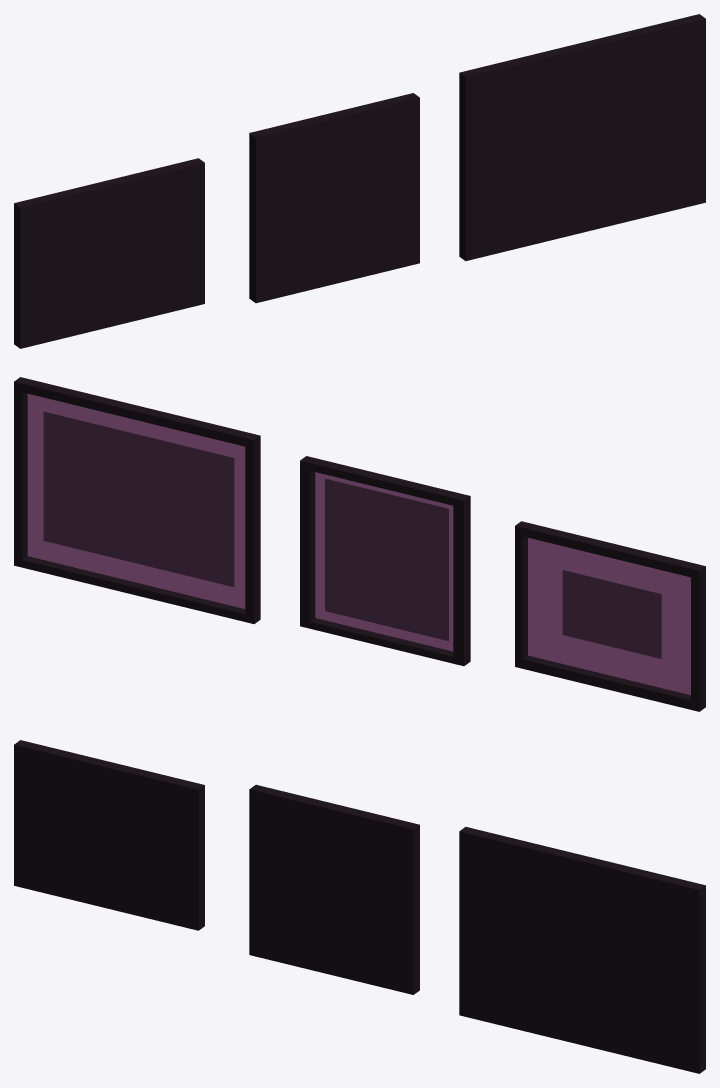
The model's file is Prop_sci_frame_a.FBX.
3 views of the same model, one above another, from view 1: azimuth 30°, elevation 25°; view 2: azimuth 150°, elevation 25°; view 3: azimuth 330°, elevation 25° (orthographic).
Visible parts, largest first — view 1: Prop_sci_fram03, Prop_sci_fram02, Prop_sci_fram04; view 2: Prop_sci_fram03, Prop_sci_fram02, Prop_sci_fram04; view 3: Prop_sci_fram03, Prop_sci_fram02, Prop_sci_fram04.
Boxes of the visible parts, bbox=[...] form: Prop_sci_fram03: bbox=[459, 14, 705, 261]; Prop_sci_fram02: bbox=[249, 93, 419, 303]; Prop_sci_fram04: bbox=[14, 158, 204, 348]; Prop_sci_fram03: bbox=[14, 377, 260, 624]; Prop_sci_fram02: bbox=[300, 456, 470, 666]; Prop_sci_fram04: bbox=[515, 521, 705, 711]; Prop_sci_fram03: bbox=[459, 826, 705, 1073]; Prop_sci_fram02: bbox=[249, 784, 419, 994]; Prop_sci_fram04: bbox=[14, 740, 204, 930].
Bounding box in the file's own units: 119 × 30.58 × 1.95.
